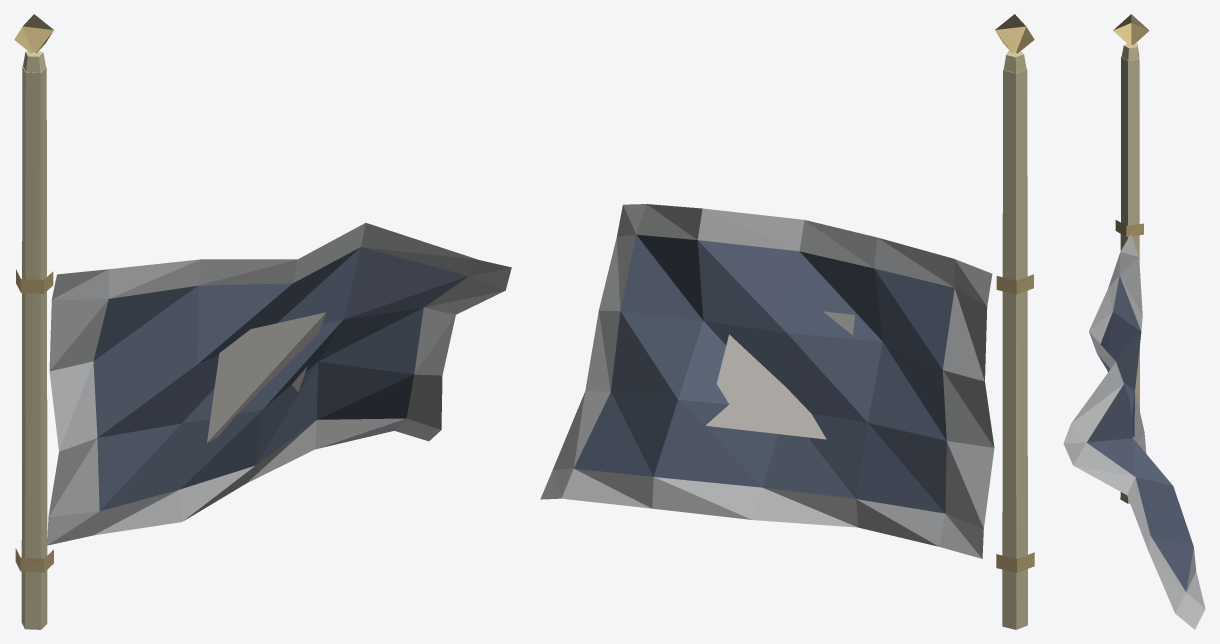
The model's file is flag.notched.dianqi__pole.stick.mugun__midmast.glb.
The picture shows the model from 3 angles, left to right: view 1: azimuth 30°, elevation 25°; view 2: azimuth 150°, elevation 25°; view 3: azimuth 270°, elevation 25°; orthographic projection. The views are drawn at different scales.
Parts seen in each view (by area): view 1: flag.notched.dianqi; view 2: flag.notched.dianqi; view 3: flag.notched.dianqi.
Part boxes in pixels (<box>): flag.notched.dianqi: <box>14,14,511,629</box>; flag.notched.dianqi: <box>540,14,1034,629</box>; flag.notched.dianqi: <box>1063,14,1205,629</box>.
Size of the model in its own units: 1.62 by 2.08 by 0.5532.
